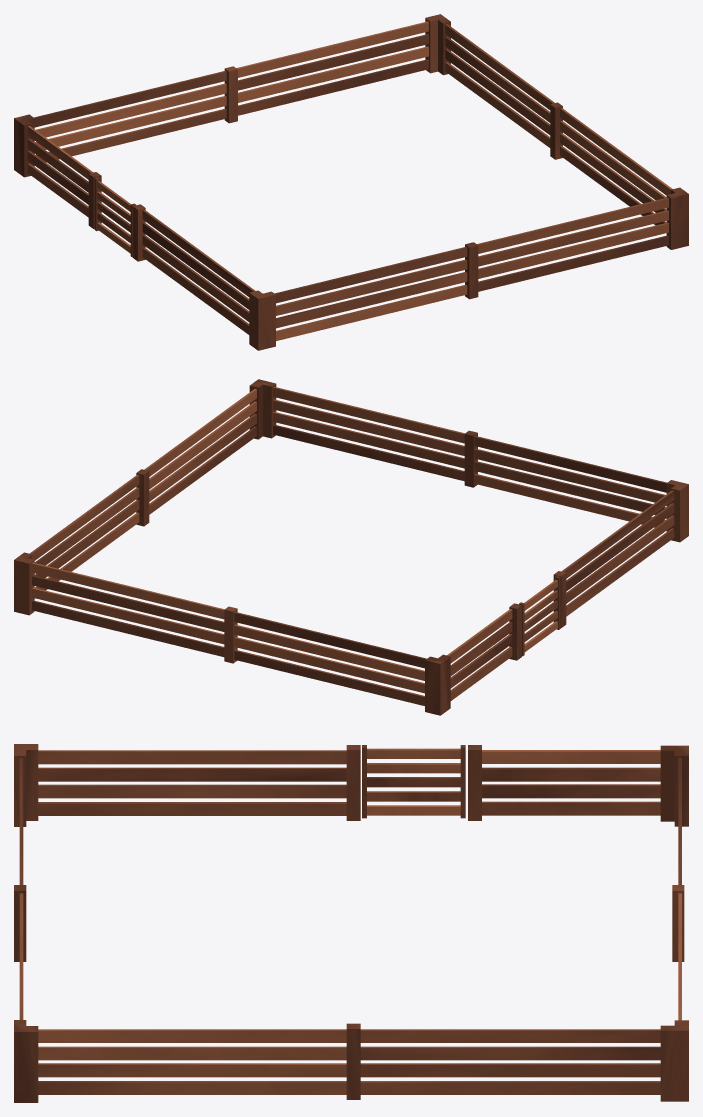
Rendered from Corral.fbx.
3 renders of one model, top to bottom at view 1: azimuth 30°, elevation 25°; view 2: azimuth 150°, elevation 25°; view 3: azimuth 270°, elevation 25°, orthographic. The views are drawn at different scales.
Visible parts, largest first — view 1: Puerta; view 2: Puerta; view 3: Puerta.
Part boxes in pixels (<box>): Puerta: <box>14,14,688,350</box>; Puerta: <box>14,379,688,715</box>; Puerta: <box>14,744,688,1102</box>.
Bounding box in the file's own units: 8.68 × 0.9974 × 8.6.
1 material, 1 textured.
